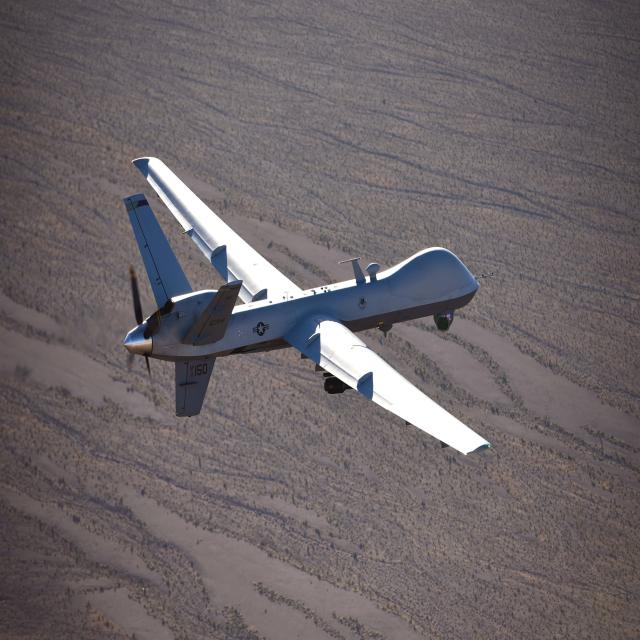MQ9: (115, 109, 520, 507)
